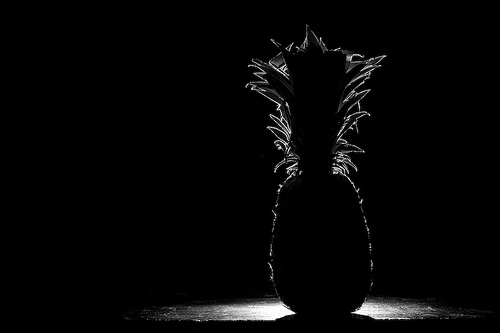pineapple: (245, 26, 387, 317)
